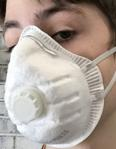with_mask: (2, 1, 116, 149)
